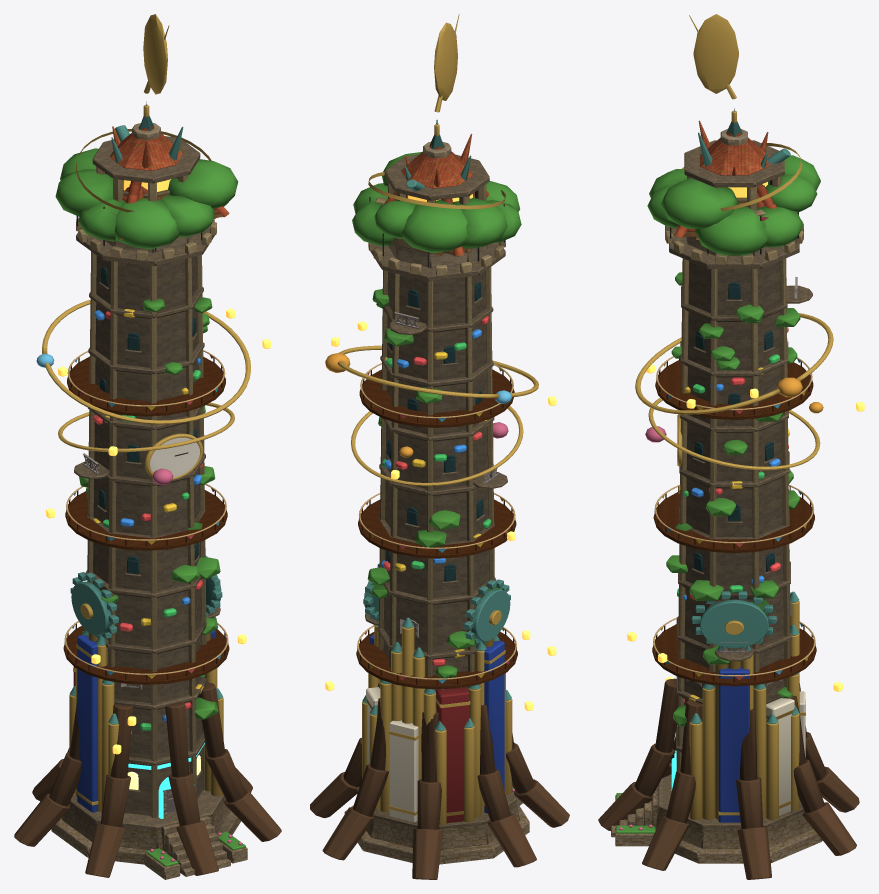
Rendered from torre.glb.
3 renders of one model, left to right at view 1: azimuth 30°, elevation 25°; view 2: azimuth 150°, elevation 25°; view 3: azimuth 270°, elevation 25°, orthographic. The views are drawn at different scales.
Visible parts, largest first — view 1: corpo, extra_7, extra_5, extra_0, extra_1, coroa_3, extra_2, extra_3, extra_4, extra_6, coroa_7; view 2: corpo, extra_7, extra_0, extra_5, extra_3, coroa_3, extra_2, extra_1, extra_4, extra_6, coroa_6; view 3: corpo, extra_7, extra_5, extra_0, extra_3, coroa_3, extra_2, extra_1, extra_4, extra_6, coroa_7.
Boxes of the visible parts, <box> form: corpo: <box>51,218,247,879</box>; extra_7: <box>14,148,281,877</box>; extra_5: <box>63,350,229,684</box>; extra_0: <box>73,14,215,812</box>; extra_1: <box>70,433,222,638</box>; coroa_3: <box>92,126,200,201</box>; extra_2: <box>36,125,250,485</box>; extra_3: <box>69,612,223,813</box>; extra_4: <box>76,206,215,733</box>; extra_6: <box>46,173,270,754</box>; coroa_7: <box>111,126,183,168</box>; corpo: <box>344,240,529,864</box>; extra_7: <box>310,151,569,879</box>; extra_0: <box>366,14,505,823</box>; extra_5: <box>356,363,517,689</box>; extra_3: <box>362,617,512,825</box>; coroa_3: <box>384,144,489,204</box>; extra_2: <box>325,179,538,486</box>; extra_1: <box>363,563,510,644</box>; extra_4: <box>369,197,505,665</box>; extra_6: <box>325,190,556,710</box>; coroa_6: <box>368,172,505,209</box>; corpo: <box>611,220,822,863</box>; extra_7: <box>598,155,859,879</box>; extra_5: <box>652,356,816,686</box>; extra_0: <box>689,14,805,822</box>; extra_3: <box>689,591,799,819</box>; coroa_3: <box>684,133,784,210</box>; extra_2: <box>635,148,833,470</box>; extra_1: <box>677,414,776,648</box>; extra_4: <box>670,212,798,702</box>; extra_6: <box>627,180,864,691</box>; coroa_7: <box>698,120,768,175</box>.
Bounding box in the file's own units: 43.65 × 148 × 43.75.
48 materials, 19 textured.
